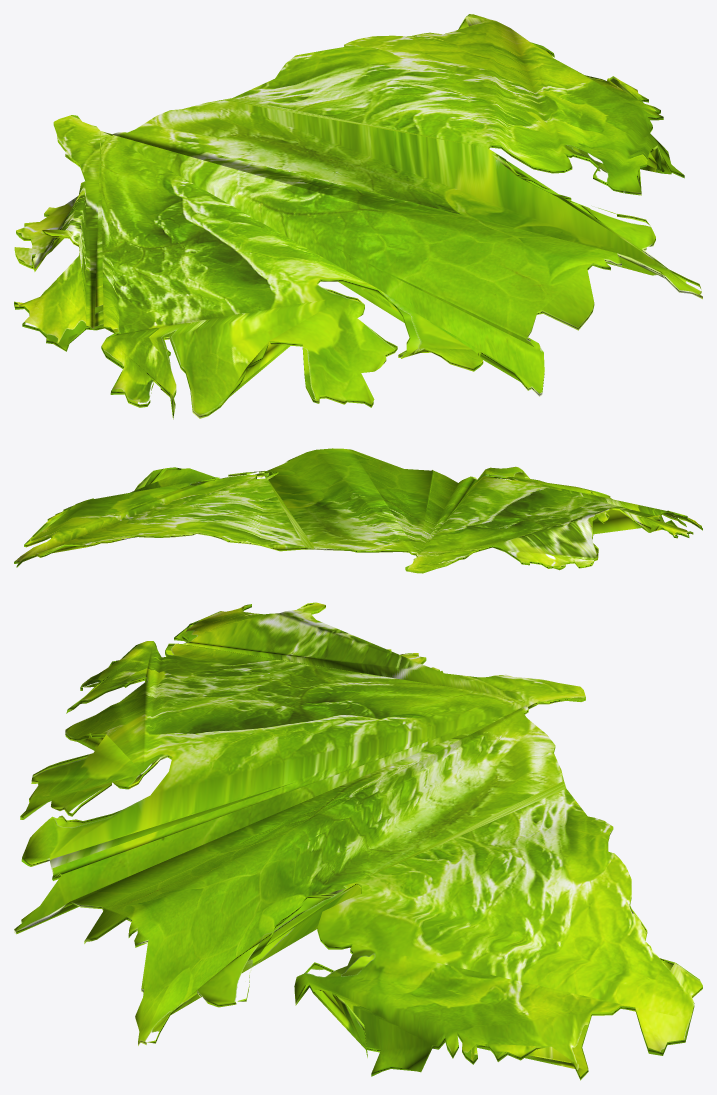
Rendered from _ettucenew2.fbx.
3 renders of one model, top to bottom at view 1: azimuth 30°, elevation 25°; view 2: azimuth 150°, elevation 25°; view 3: azimuth 270°, elevation 25°, orthographic. The views are drawn at different scales.
Visible parts, largest first — view 1: Cube.001; view 2: Cube.001; view 3: Cube.001.
Boxes of the visible parts, box(x1,y1,x2,y2) form: Cube.001: box(14, 14, 702, 419); Cube.001: box(14, 448, 702, 573); Cube.001: box(14, 602, 702, 1080).
Bounding box in the file's own units: 193 × 34.96 × 144.
1 material, 1 textured.
